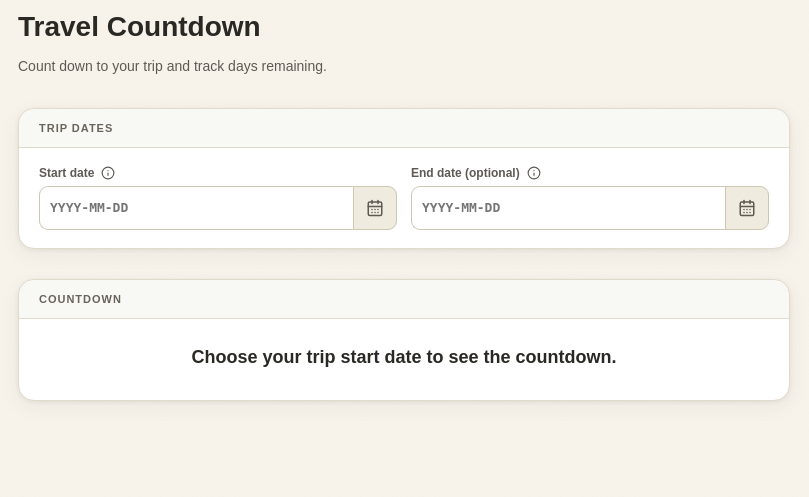
Test: Travel Countdown page › retains end dates when a changed start makes them invalid
Type "2999-01-01" into the field labelled "Start date" at (196,208), box 39,186 -> 353,230
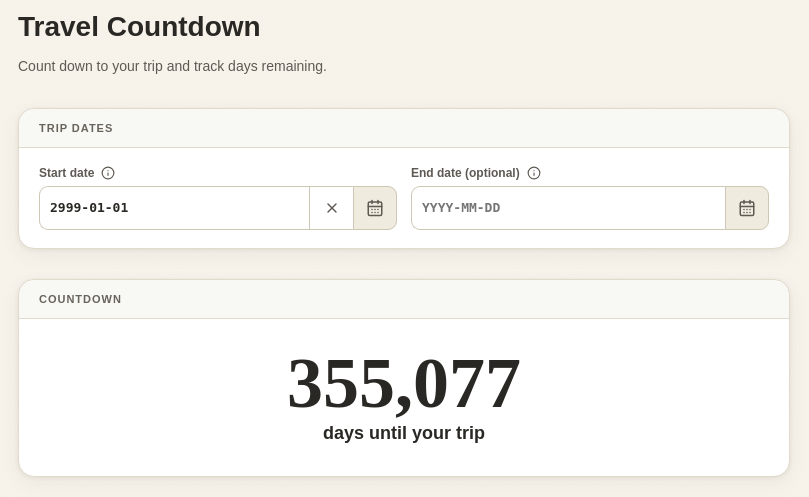
Type "2999-01-03" into the field labelled "End date (optional)" at (568,208), box 411,186 -> 725,230
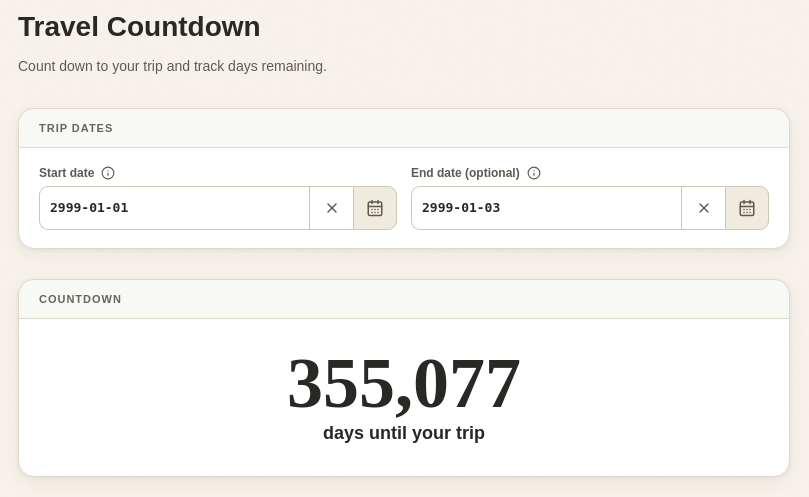
Replace the text in the field labelled "Start date" with "2999-01-04" at (174,208), box 39,186 -> 309,230
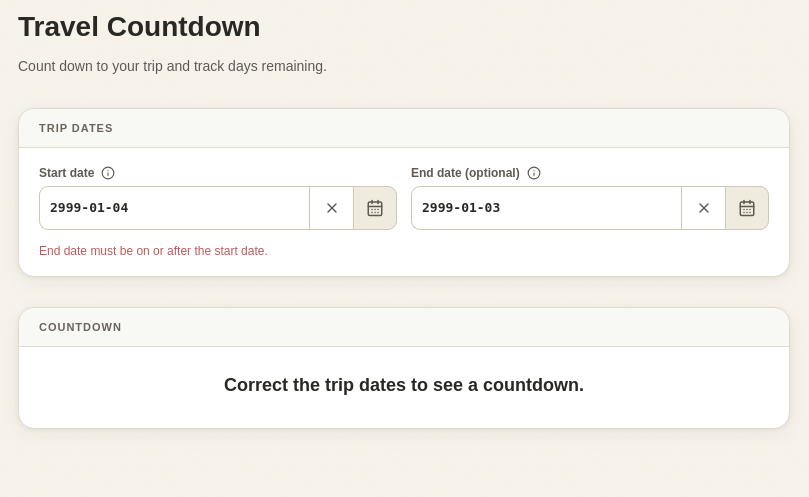
Result: the message reads "End date must be on or after the start date." at 39,244 -> 268,258
Result: the text "Correct the trip dates to see a countdown." is shown at 224,375 -> 584,396
